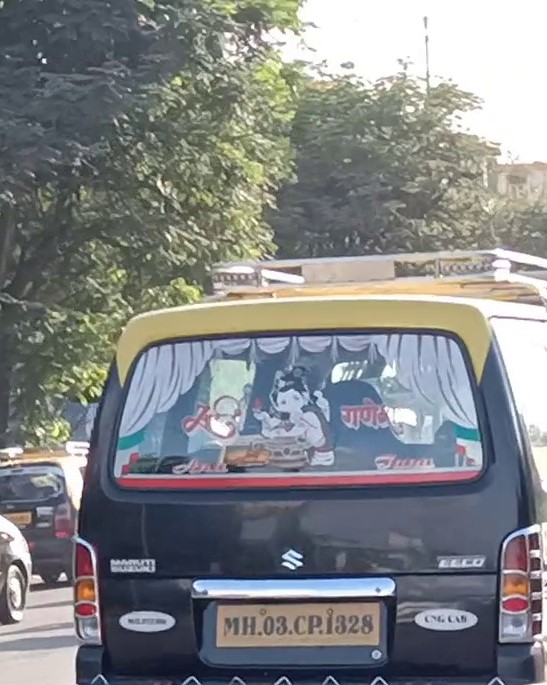MH03CP1328: (216, 602, 378, 646)
